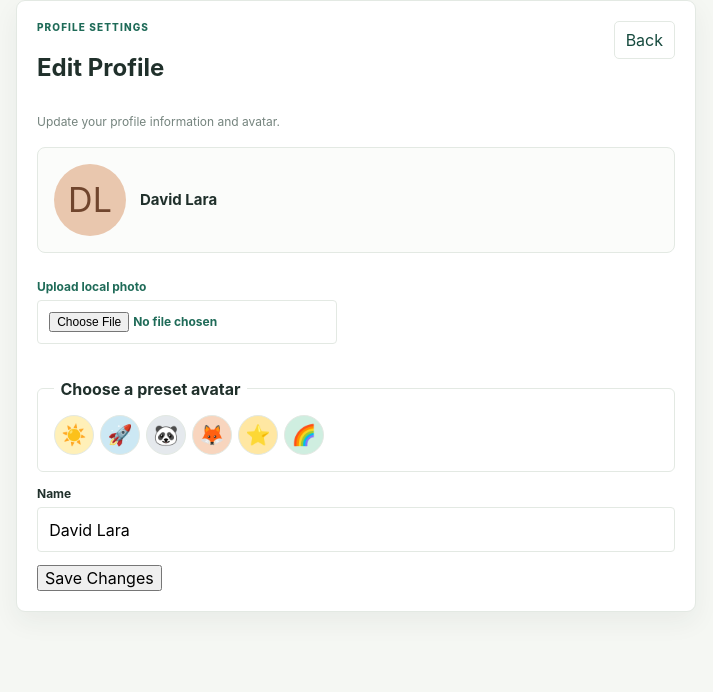
allows choosing a preset avatar and saving a profile name
Replace the text in the field labelled "Name" with "Mariela Garcia". click: (356, 530)
box: [37,507,675,552]
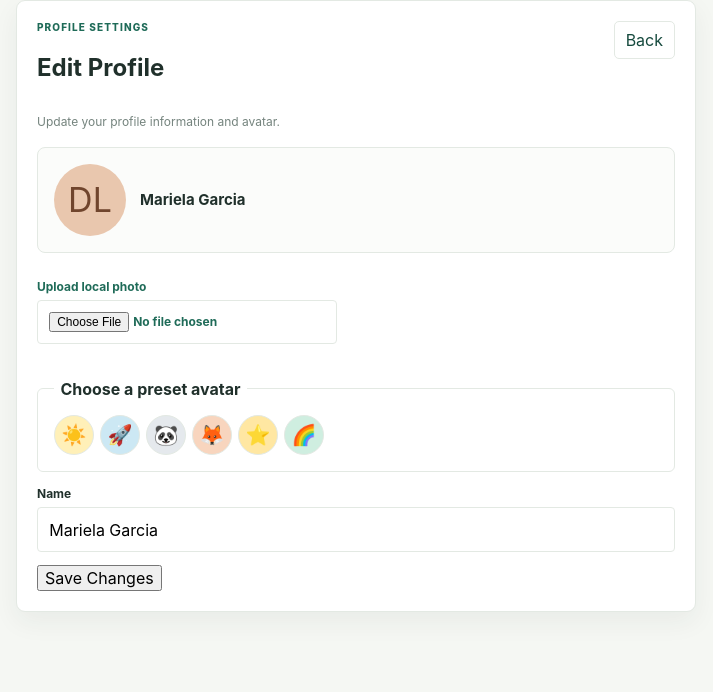
Click the button named "Choose Panda avatar". click: (166, 435)
box: [146,415,186,455]
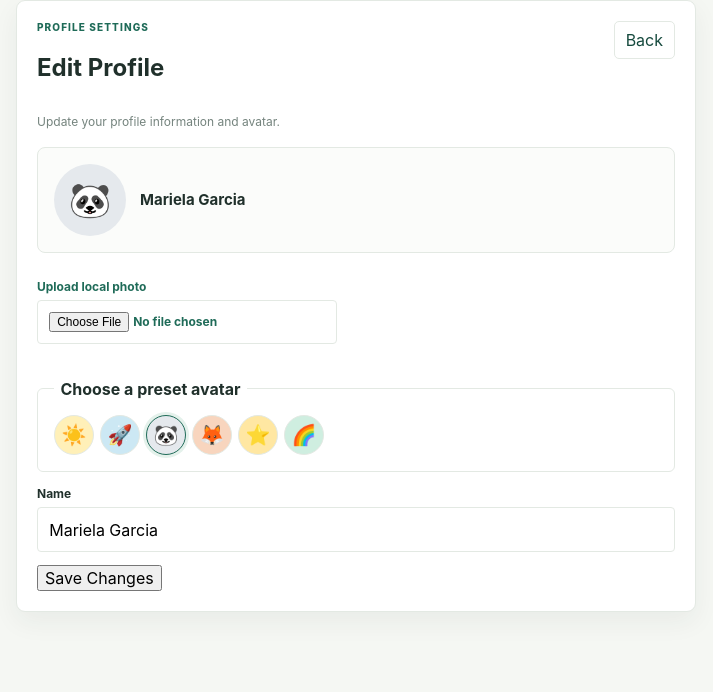
Click the button "Save Changes". click: (99, 578)
box: [37,564,162,590]
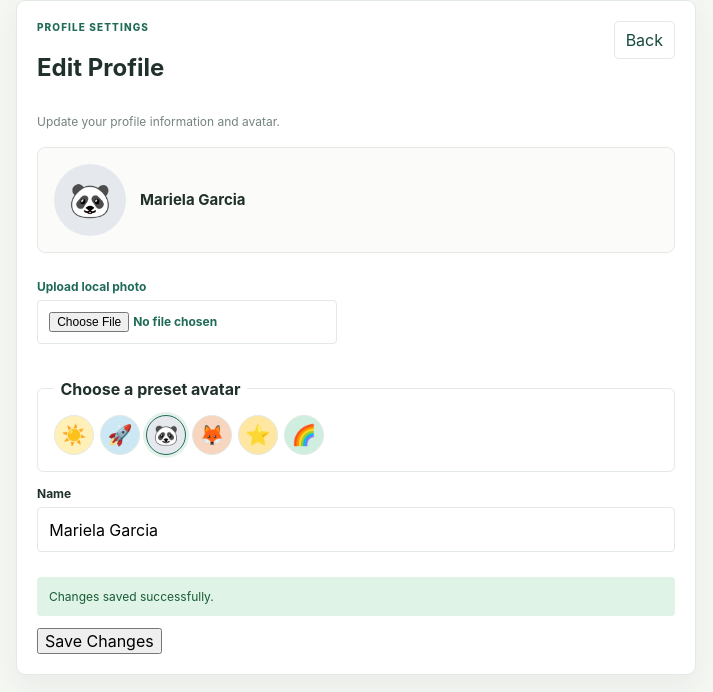
Expected: the text "Mariela Garcia" is shown, [140,190,246,209]
Expected: the text "Changes saved successfully." is shown, [37,576,675,616]
